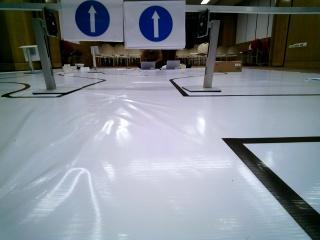straight: (126, 3, 185, 48), (65, 1, 121, 41)
